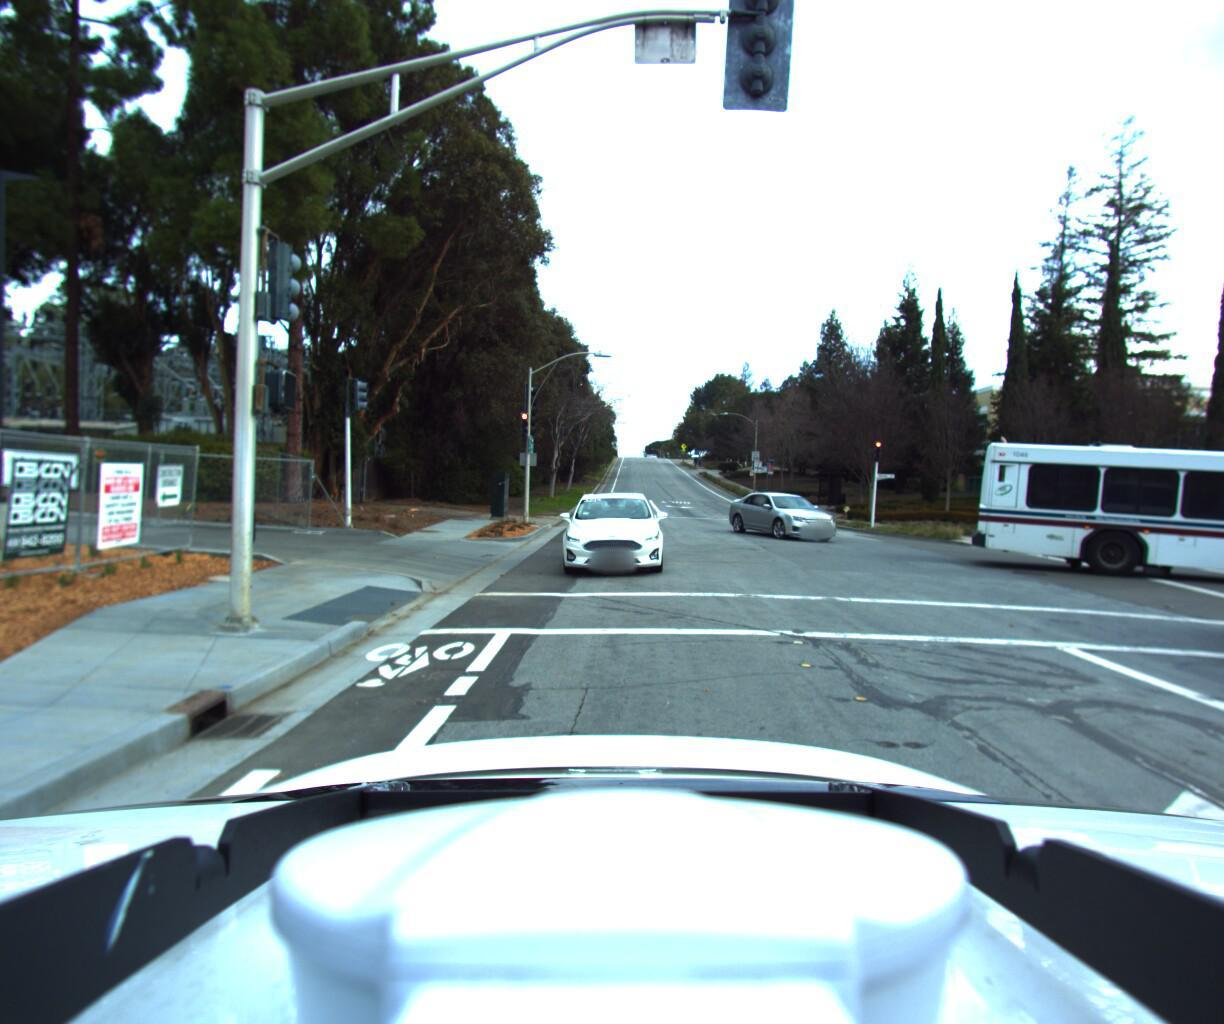bus: (978, 438, 1224, 628)
car: (551, 478, 672, 575), (728, 486, 864, 542), (1209, 434, 1224, 769)
